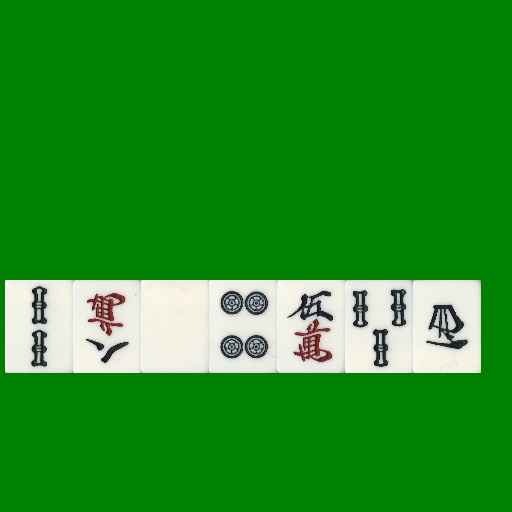2s: (5, 280, 73, 373)
3s: (345, 280, 413, 373)
4p: (209, 280, 277, 373)
5m: (277, 280, 345, 373)
8m: (73, 280, 141, 373)
west: (413, 280, 481, 373)
white: (141, 280, 209, 373)
